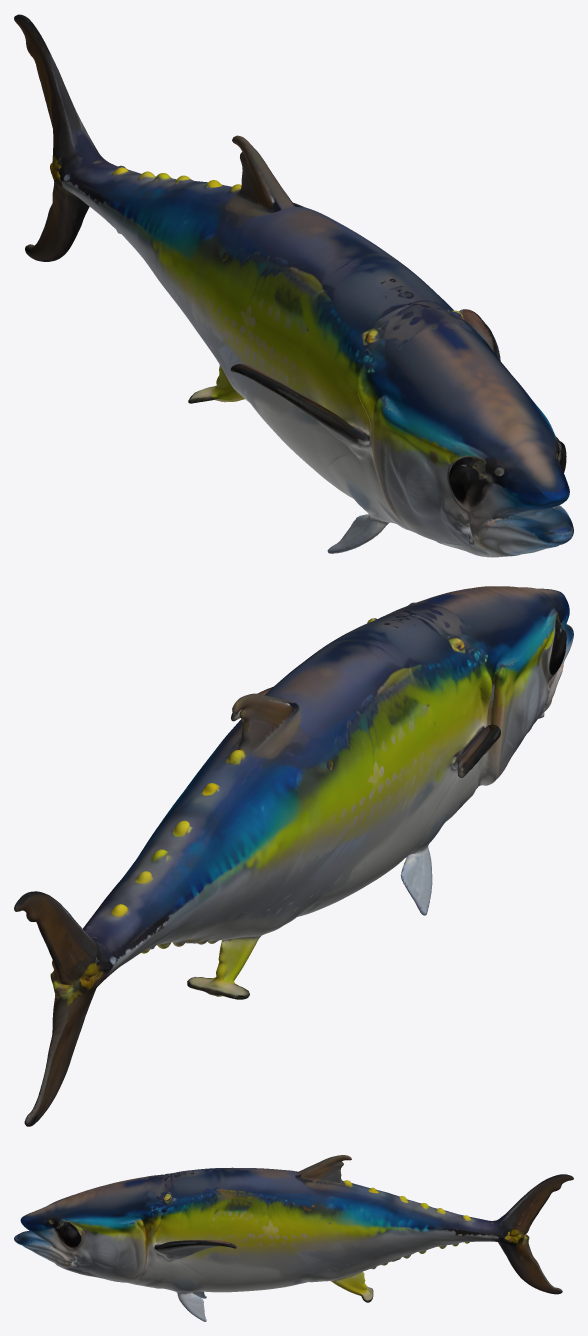
The model's file is fish_bluefin_tuna.glb.
3 renders of one model, top to bottom at view 1: azimuth 30°, elevation 25°; view 2: azimuth 150°, elevation 25°; view 3: azimuth 270°, elevation 25°, orthographic. The views are drawn at different scales.
Parts seen in each view (by area): view 1: tripo_node_30276143-711f-46ce-b672-323f30b0299d; view 2: tripo_node_30276143-711f-46ce-b672-323f30b0299d; view 3: tripo_node_30276143-711f-46ce-b672-323f30b0299d.
Boxes of the visible parts, x1,y1,x2,y2 form: tripo_node_30276143-711f-46ce-b672-323f30b0299d: (14, 14, 573, 557); tripo_node_30276143-711f-46ce-b672-323f30b0299d: (14, 586, 573, 1126); tripo_node_30276143-711f-46ce-b672-323f30b0299d: (14, 1155, 573, 1321).
Size of the model in its own units: 0.2496 by 0.3056 by 1.
Materials: 1 (1 with a texture image).
